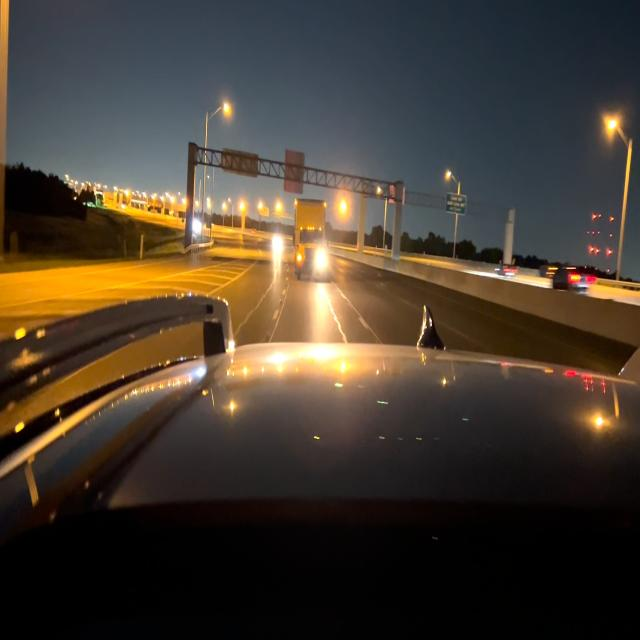back-of-sign: (222, 148, 257, 179), (284, 149, 304, 194)
